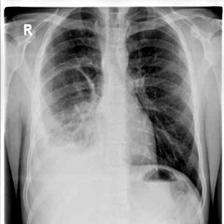tuberculosis: (19, 8, 206, 224)
